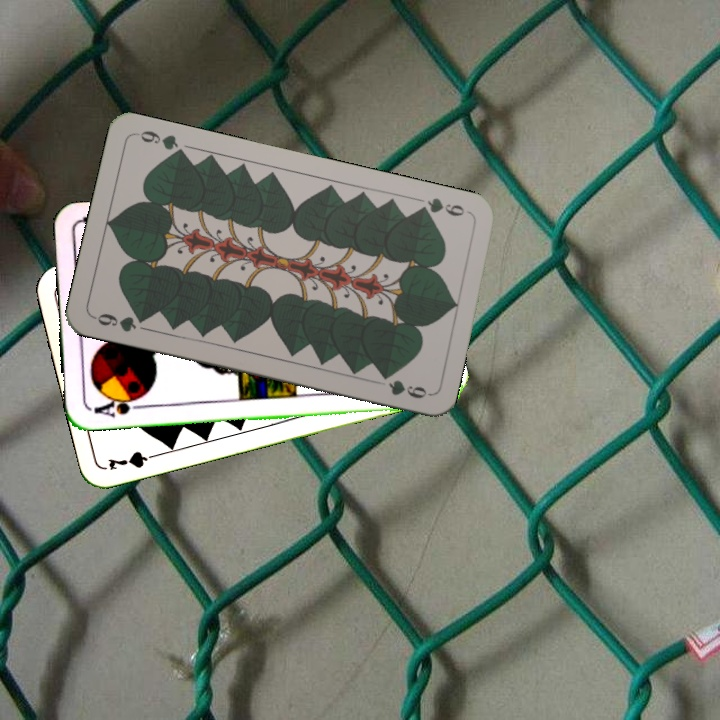G7: (104, 447, 163, 473)
G9: (89, 309, 150, 335), (413, 193, 467, 219)
SA: (90, 392, 148, 420)
